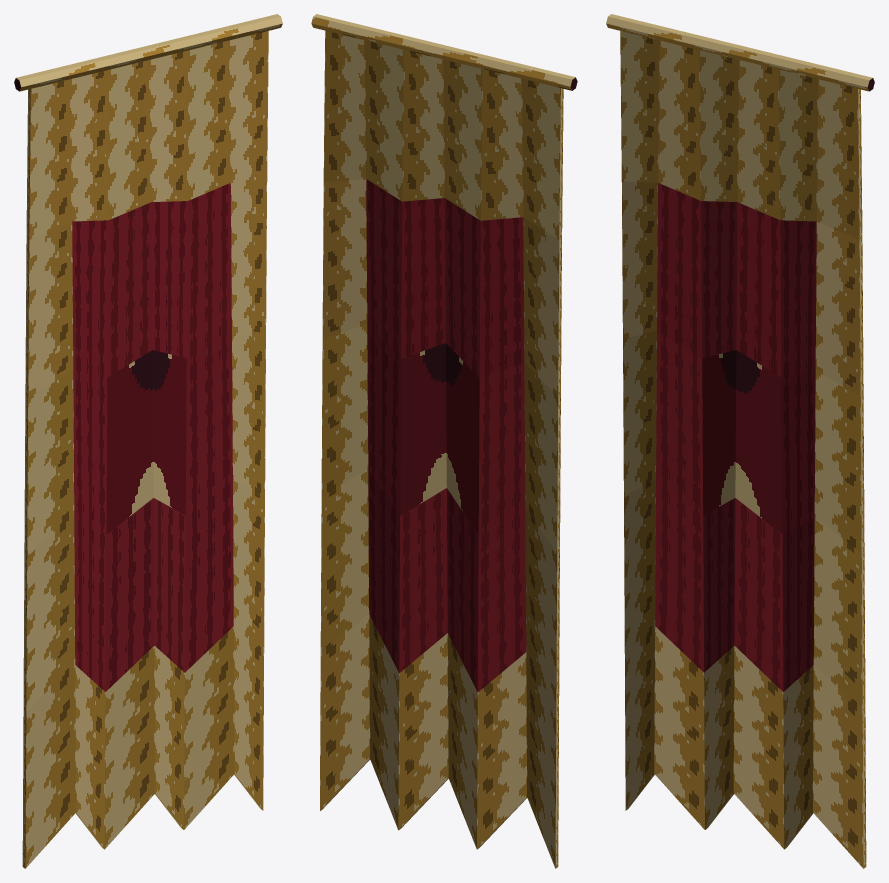
Rendered from ORN-08_Estandarte_de_La_Carabela.gltf.
The picture shows the model from 3 angles, left to right: view 1: azimuth 30°, elevation 25°; view 2: azimuth 150°, elevation 25°; view 3: azimuth 330°, elevation 25°; orthographic projection.
Parts seen in each view (by area): view 1: ORN-08_Estandarte_de_La_Carabela; view 2: ORN-08_Estandarte_de_La_Carabela; view 3: ORN-08_Estandarte_de_La_Carabela.
Boxes of the visible parts, x1=… form: ORN-08_Estandarte_de_La_Carabela: x1=14, y1=14, x2=282, y2=868; ORN-08_Estandarte_de_La_Carabela: x1=311, y1=14, x2=577, y2=868; ORN-08_Estandarte_de_La_Carabela: x1=606, y1=14, x2=874, y2=868.
Bounding box in the file's own units: 1.1 × 3.2 × 0.1.
1 material, 1 textured.
